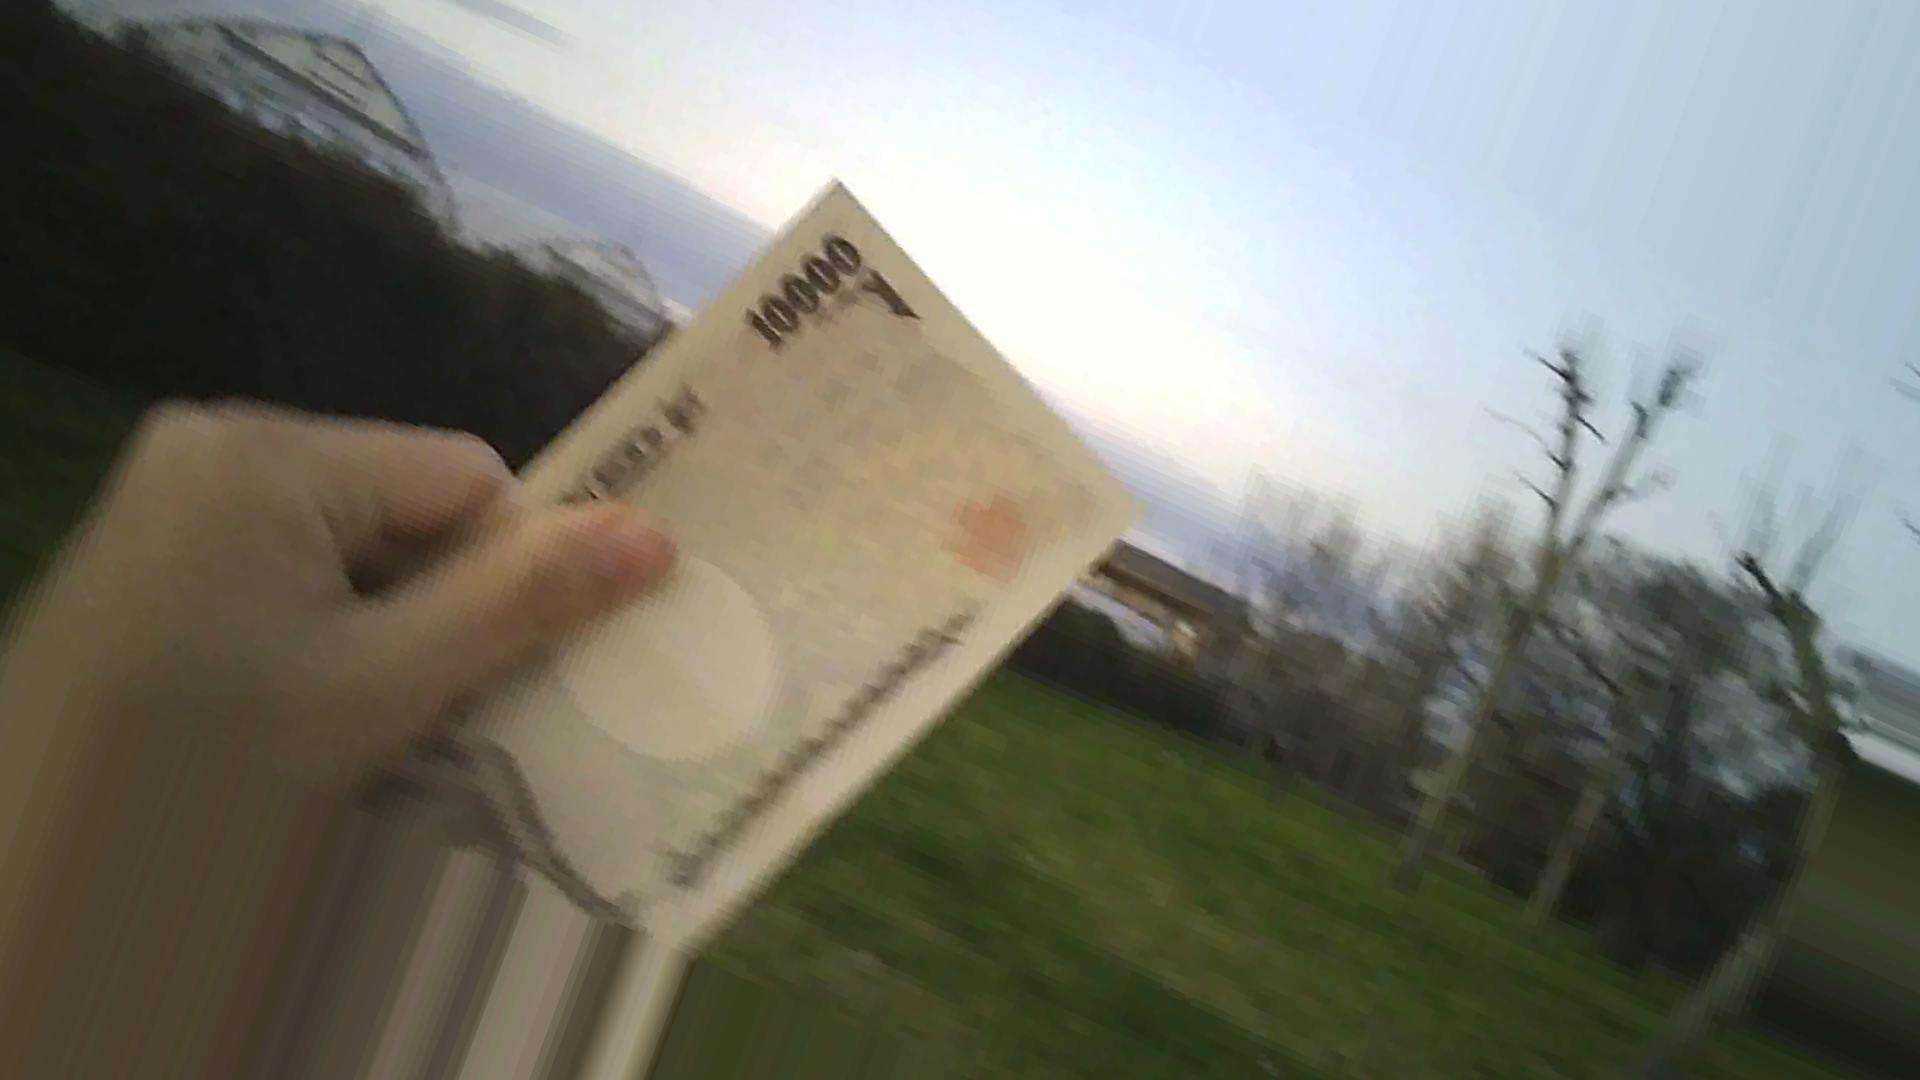10,000 Yen: (363, 178, 1134, 949)
